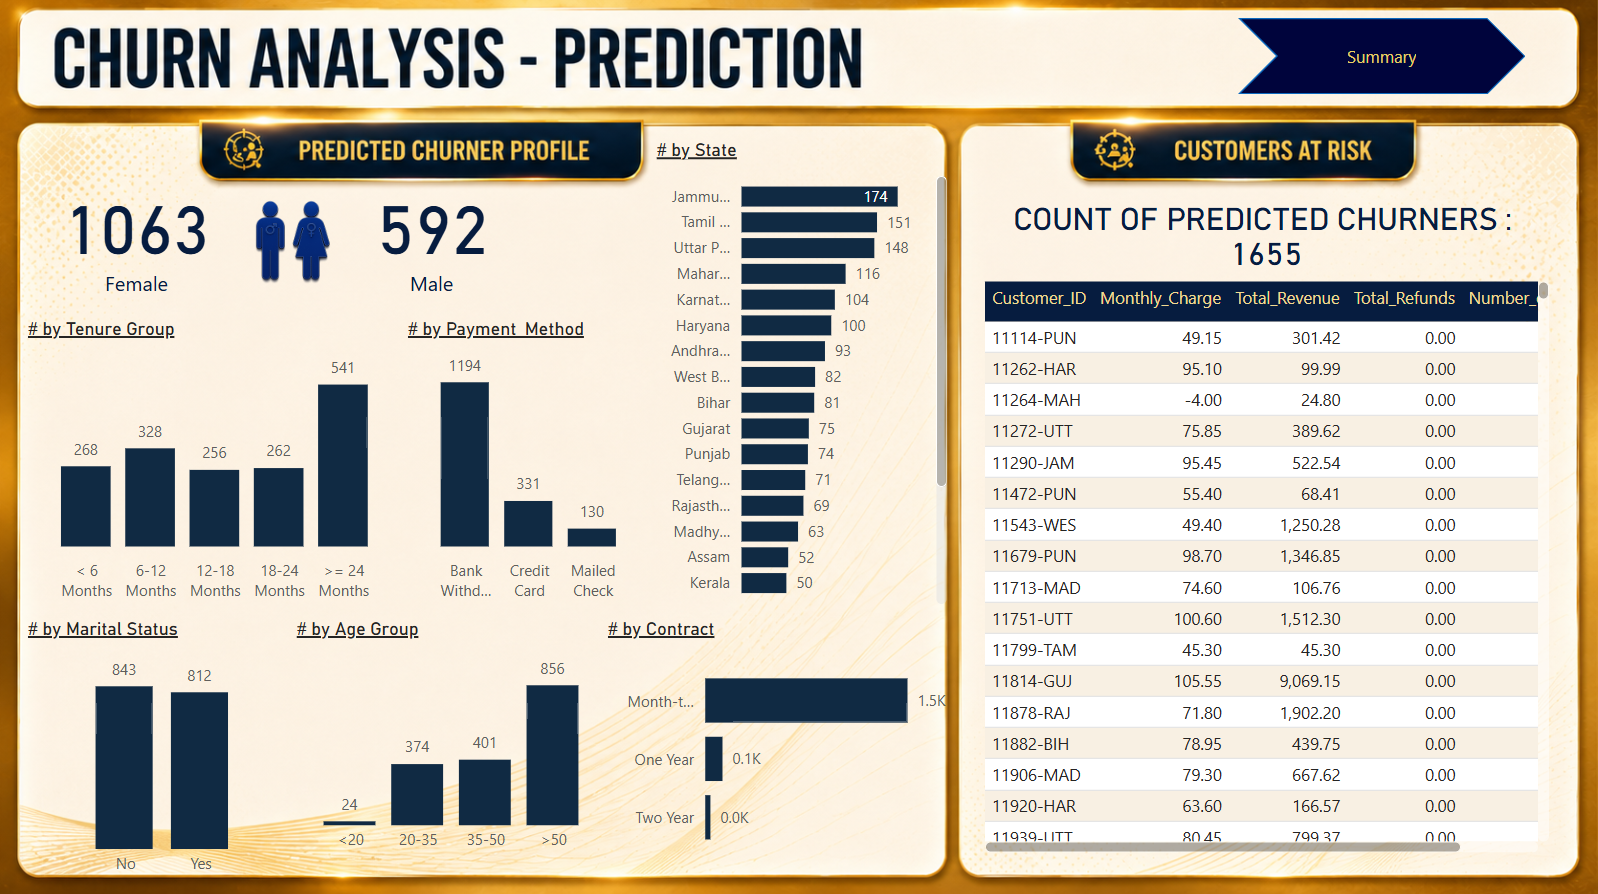

What the dashboard file says about the page in this screenshot:
{"tool":"powerbi","page":{"name":"Churn Prediction","canvas":[1280,720],"ordinal":2},"visuals":[{"type":"tableEx","fields":{"Values":["Predictions.Customer_ID","Predictions.Monthly_Charge","Predictions.Total_Revenue","Predictions.Total_Refunds","Predictions.Number_of_Referrals"]},"box":[784.2,222,462.1,466.9],"z":0},{"type":"card","fields":{"Values":["tbl_Measures.Title Predicted Churners"]},"box":[784.2,113.4,462.1,153.2],"z":1000},{"type":"card","fields":{"Values":["tbl_Measures.Count Predicted Churner"]},"box":[45.8,133.9,130.3,112.2],"z":2000},{"type":"card","fields":{"Values":["tbl_Measures.Count Predicted Churner"]},"box":[295.6,133.9,102.5,112.2],"z":3000},{"type":"clusteredColumnChart","fields":{"Category":["mapping_AgeGrp.Age Group "],"Y":["CountNonNull(Predictions.Customer_ID)"]},"box":[234,495.8,259.4,196.6],"z":4000},{"type":"clusteredColumnChart","fields":{"Category":["Predictions.Married"],"Y":["CountNonNull(Predictions.Customer_ID)"]},"box":[19.3,495.8,226.8,214.7],"z":5000},{"type":"clusteredColumnChart","fields":{"Y":["CountNonNull(Predictions.Customer_ID)"],"Category":["mapping_TenureGrp.Tenure Group "]},"box":[19.3,255.8,304,234],"z":6000},{"type":"clusteredBarChart","fields":{"Category":["Predictions.Contract","mapping_AgeGrp.Age Group "],"Y":["CountNonNull(Predictions.Customer_ID)"]},"box":[482.6,495.8,281.1,202.7],"z":7000},{"type":"clusteredBarChart","fields":{"Category":["Predictions.State"],"Y":["CountNonNull(Predictions.Customer_ID)"]},"box":[522.4,113.4,241.3,376.4],"z":8000},{"type":"shape","box":[991.7,15.7,230.4,61.5],"z":9000},{"type":"clusteredColumnChart","fields":{"Y":["CountNonNull(Predictions.Customer_ID)"],"Category":["Predictions.Payment_Method"]},"box":[323.3,255.8,199.1,234],"z":10000},{"type":"image","box":[190.6,153.2,86.9,83.2],"z":11000}]}

Visuals, with their boxes in screenshot pixels (x1, y1, x2, y2), scaled from the page's 1280x720 canvas onto the 1598x894 screenshot:
tableEx - Predictions.Customer_ID x Predictions.Monthly_Charge: 979 276 1556 855
card - tbl_Measures.Title Predicted Churners: 979 141 1556 331
card - tbl_Measures.Count Predicted Churner: 57 166 220 306
card - tbl_Measures.Count Predicted Churner: 369 166 497 306
clusteredColumnChart - mapping_AgeGrp.Age Group  x CountNonNull(Predictions.Customer_ID): 292 616 616 860
clusteredColumnChart - Predictions.Married x CountNonNull(Predictions.Customer_ID): 24 616 307 882
clusteredColumnChart - CountNonNull(Predictions.Customer_ID) x mapping_TenureGrp.Tenure Group : 24 318 404 608
clusteredBarChart - Predictions.Contract x mapping_AgeGrp.Age Group : 602 616 953 867
clusteredBarChart - Predictions.State x CountNonNull(Predictions.Customer_ID): 652 141 953 608
shape: 1238 19 1526 96
clusteredColumnChart - CountNonNull(Predictions.Customer_ID) x Predictions.Payment_Method: 404 318 652 608
image: 238 190 346 294
